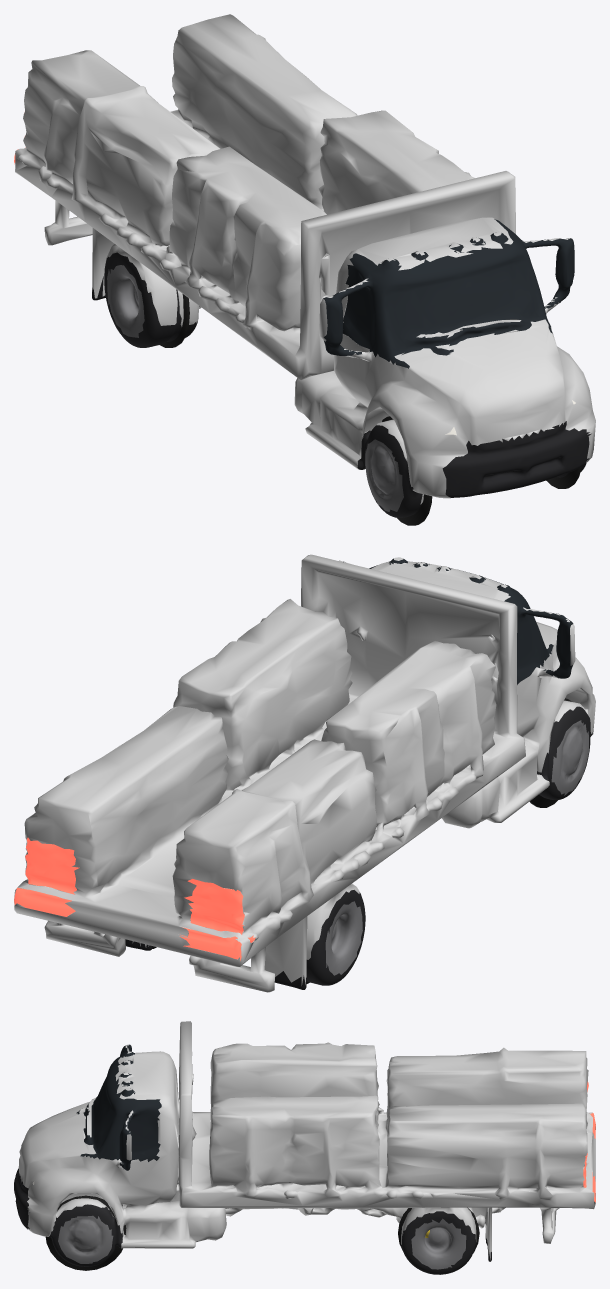
File: FlatbedTruck.fbx
3 views of the same model, one above another, from view 1: azimuth 30°, elevation 25°; view 2: azimuth 150°, elevation 25°; view 3: azimuth 270°, elevation 25° (orthographic). The views are drawn at different scales.
Parts seen in each view (by area): view 1: Body_Paint, Glass, Body_Trim, Wheel_RL_tyre, Wheel_FL_rim, Wheel_RL_rim, Wheel_FL_tyre; view 2: Body_Paint, LightsRear, Glass, Wheel_RL_rim, Wheel_FL_rim, Wheel_RL_tyre, Wheel_FL_tyre; view 3: Body_Paint, Glass, Wheel_RR_rim, Wheel_FR_rim, Wheel_RR_tyre, Wheel_FR_tyre, Well_FR, Body_Trim.
Part boxes in pixels (x1,y1,x2,y2): Body_Paint: (15,14,595,504); Glass: (323,219,574,368); Body_Trim: (92,276,590,513); Wheel_RL_tyre: (104,252,181,347); Wheel_FL_rim: (365,439,403,511); Wheel_RL_rim: (107,265,144,337); Wheel_FL_tyre: (357,425,422,517); Body_Paint: (14,554,595,992); LightsRear: (14,837,255,960); Glass: (343,558,573,684); Wheel_RL_rim: (325,901,362,975); Wheel_FL_rim: (551,720,588,795); Wheel_RL_tyre: (306,890,365,985); Wheel_FL_tyre: (537,706,592,799); Body_Paint: (18,1021,595,1259); Glass: (76,1044,161,1170); Wheel_RR_rim: (411,1218,466,1269); Wheel_FR_rim: (58,1215,113,1263); Wheel_RR_tyre: (401,1211,475,1274); Wheel_FR_tyre: (49,1204,122,1266); Well_FR: (45,1195,126,1270); Body_Trim: (14,1168,491,1261).
Size of the model in its own units: 1025 by 986 by 2800.
